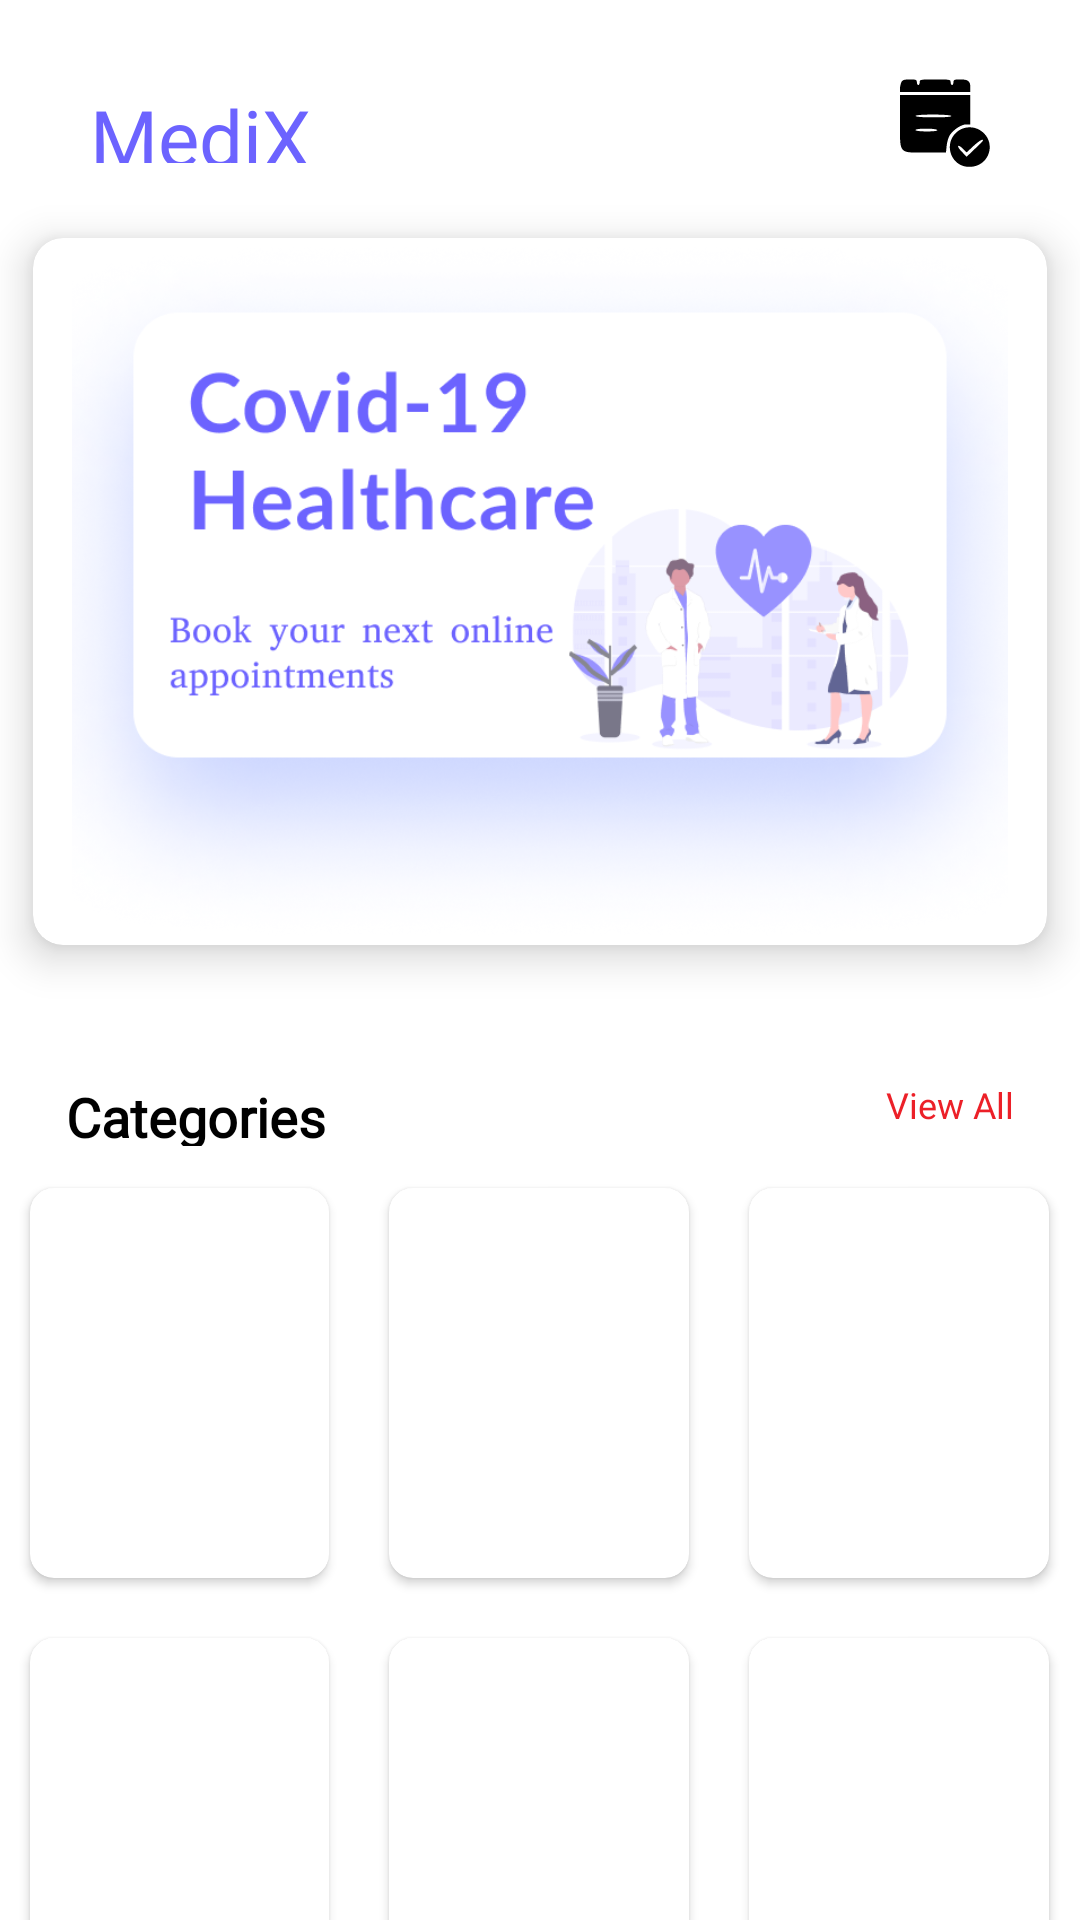

Icons on this 1080×1920 Android screen, each with the point to tap as point (x, y):
calendar: point (945, 123)
